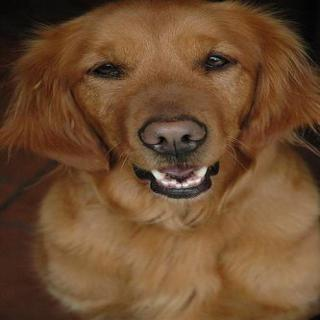dog: (5, 1, 320, 205)
nose: (136, 116, 210, 156)
